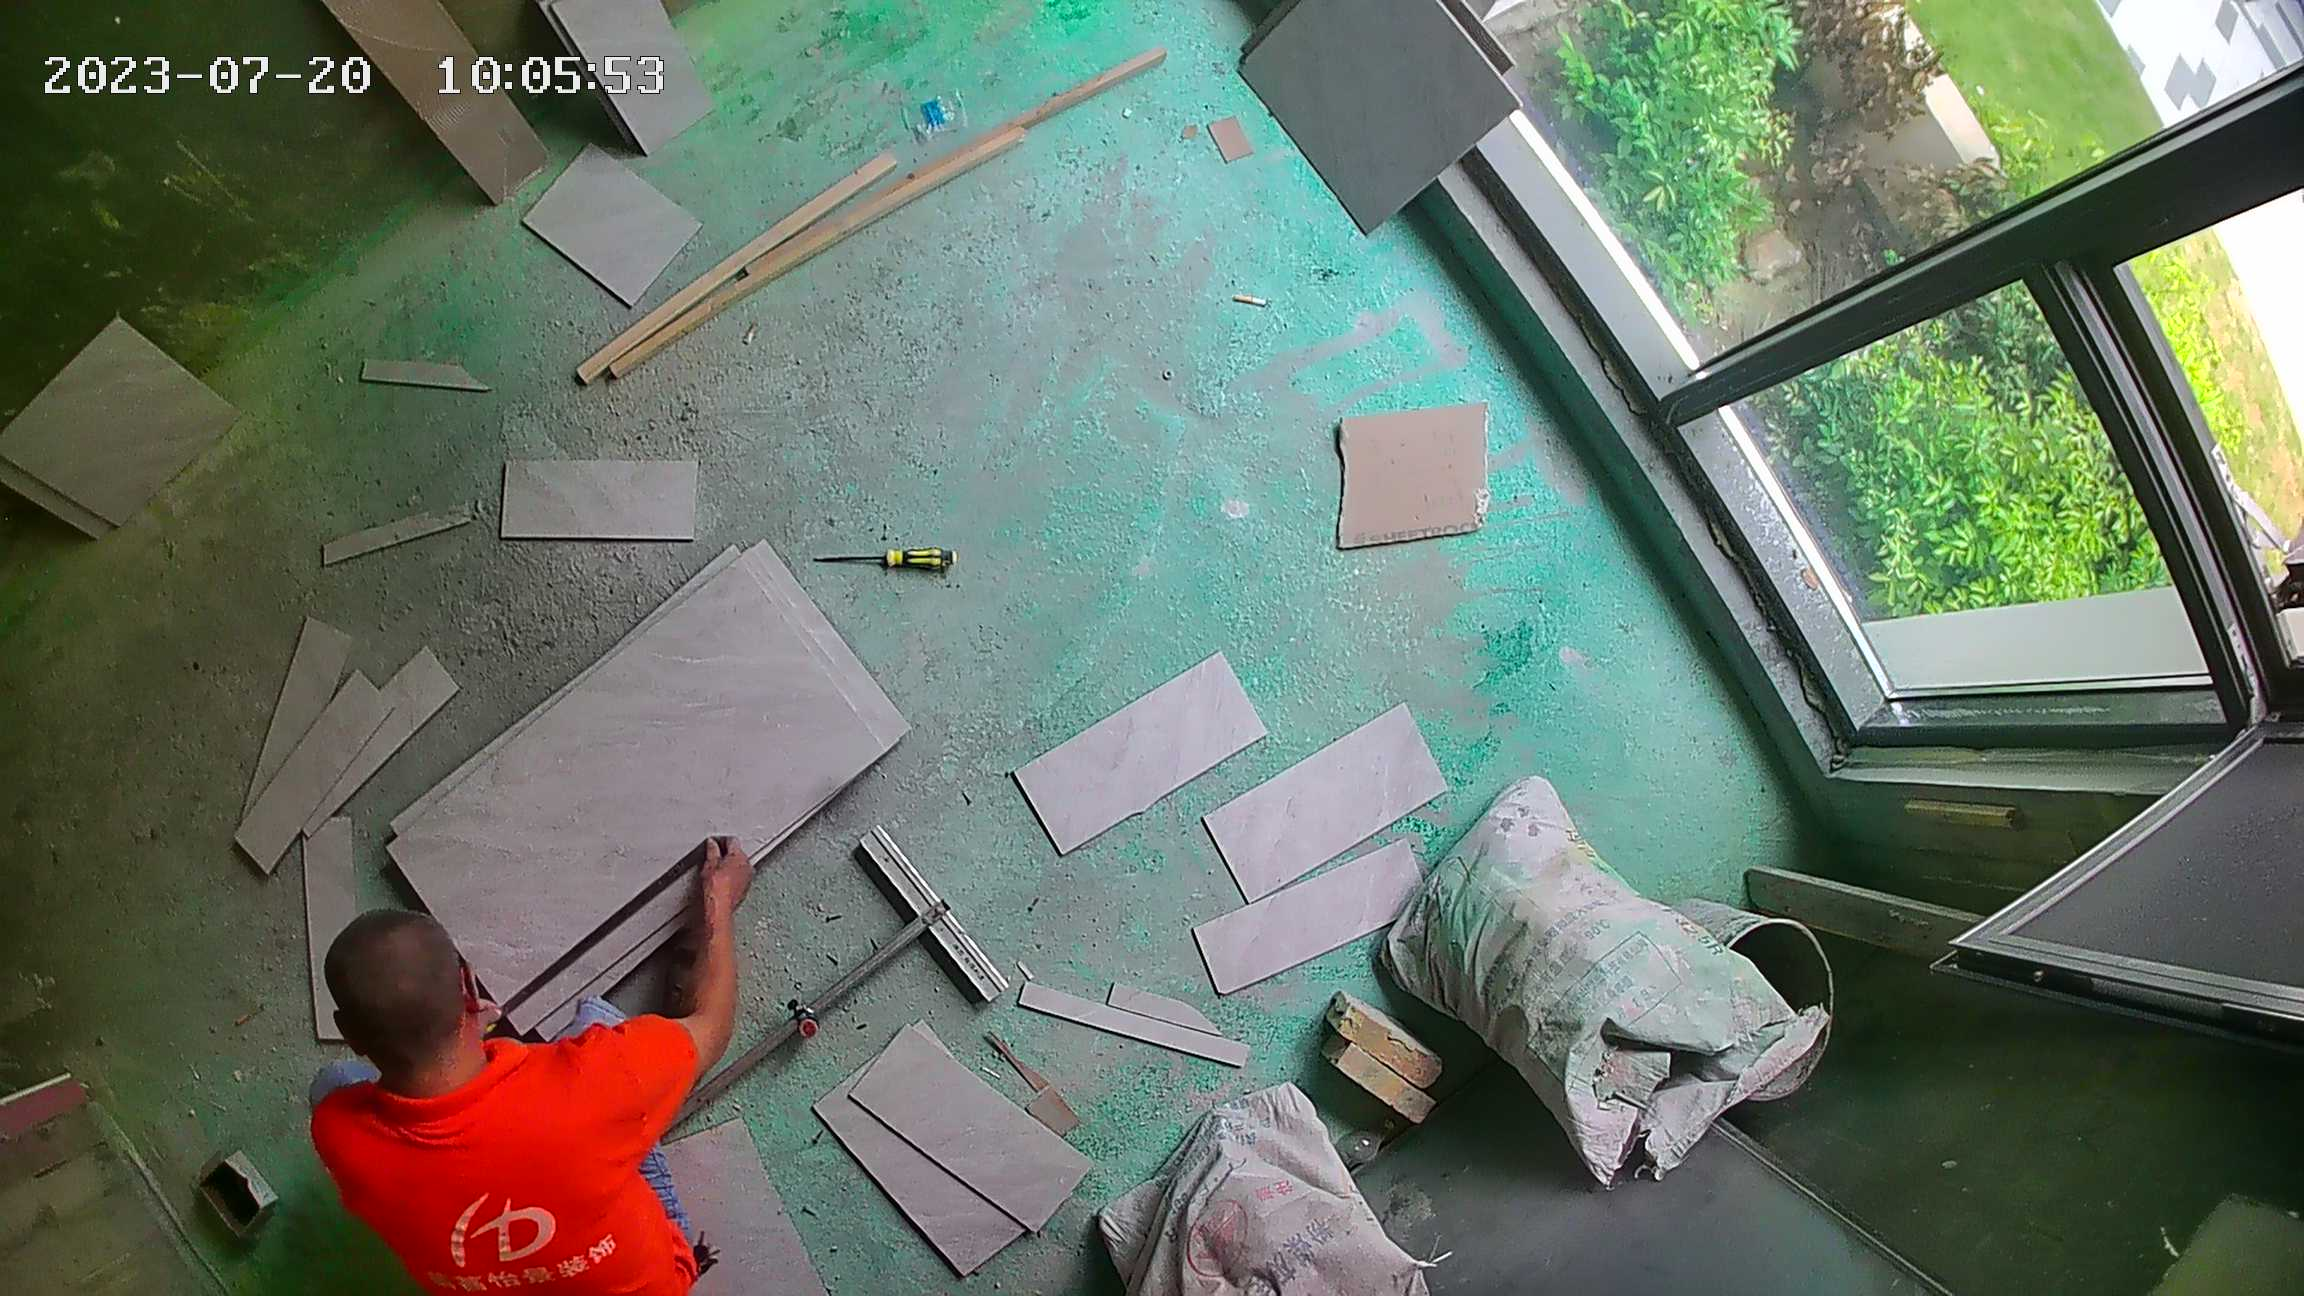people: (307, 826, 760, 1288)
window: (1417, 3, 2303, 702)
